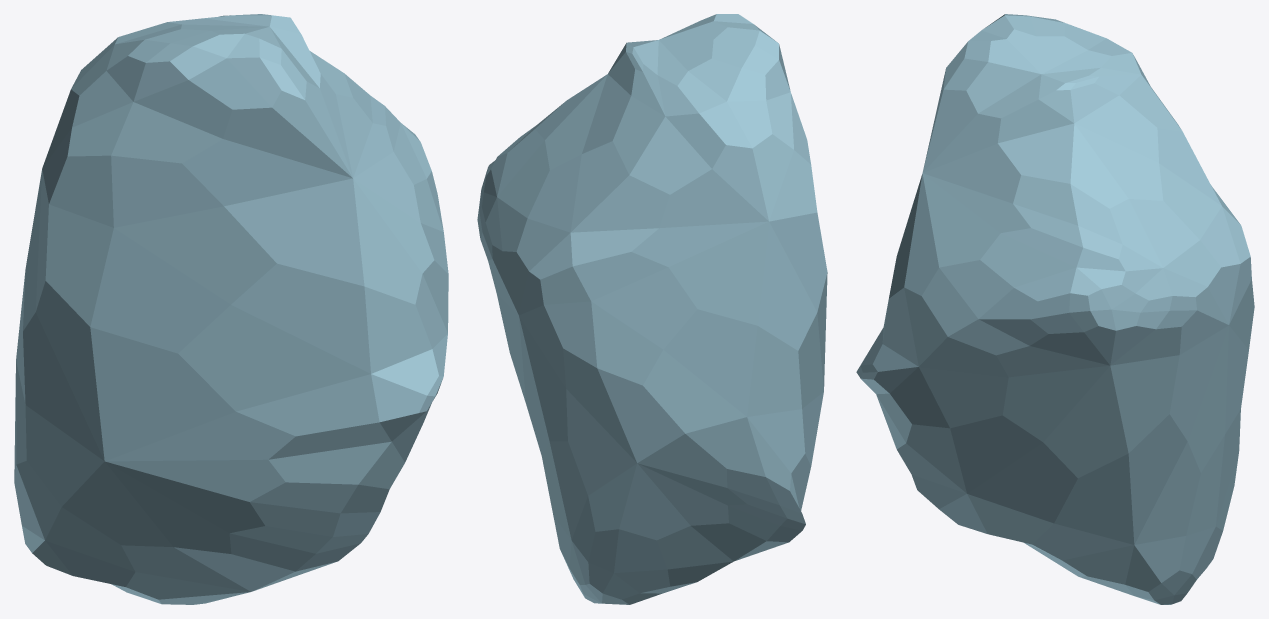
The model's file is INSTANCE_ICE.glb.
The picture shows the model from 3 angles, left to right: view 1: azimuth 30°, elevation 25°; view 2: azimuth 150°, elevation 25°; view 3: azimuth 270°, elevation 25°; orthographic projection. The views are drawn at different scales.
Parts seen in each view (by area): view 1: ROCK.004; view 2: ROCK.004; view 3: ROCK.004.
Part boxes in pixels (x1,y1,x2,y2): ROCK.004: (14,14,448,604); ROCK.004: (477,14,827,604); ROCK.004: (856,14,1254,604).
Bounding box in the file's own units: 0.7245 × 1.12 × 0.7393.
